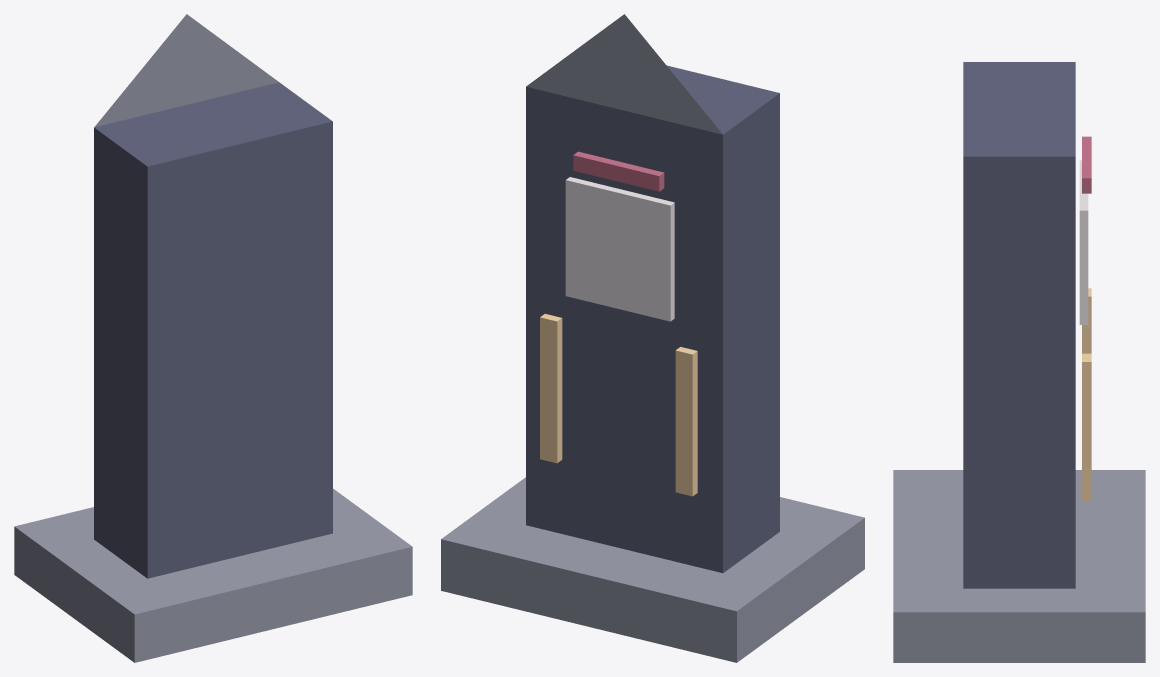
The model's file is moonfall_spirit_waystone_lod0.gltf.
3 renders of one model, left to right at view 1: azimuth 30°, elevation 25°; view 2: azimuth 150°, elevation 25°; view 3: azimuth 270°, elevation 25°, orthographic. The views are drawn at different scales.
Parts seen in each view (by area): view 1: moonfall_spirit_waystone; view 2: moonfall_spirit_waystone; view 3: moonfall_spirit_waystone.
Part boxes in pixels (box(x1,y1,x2,y2)): moonfall_spirit_waystone: box(14, 14, 412, 662); moonfall_spirit_waystone: box(441, 14, 864, 662); moonfall_spirit_waystone: box(893, 62, 1145, 662).
Bounding box in the file's own units: 2.4 × 4.55 × 1.8.
